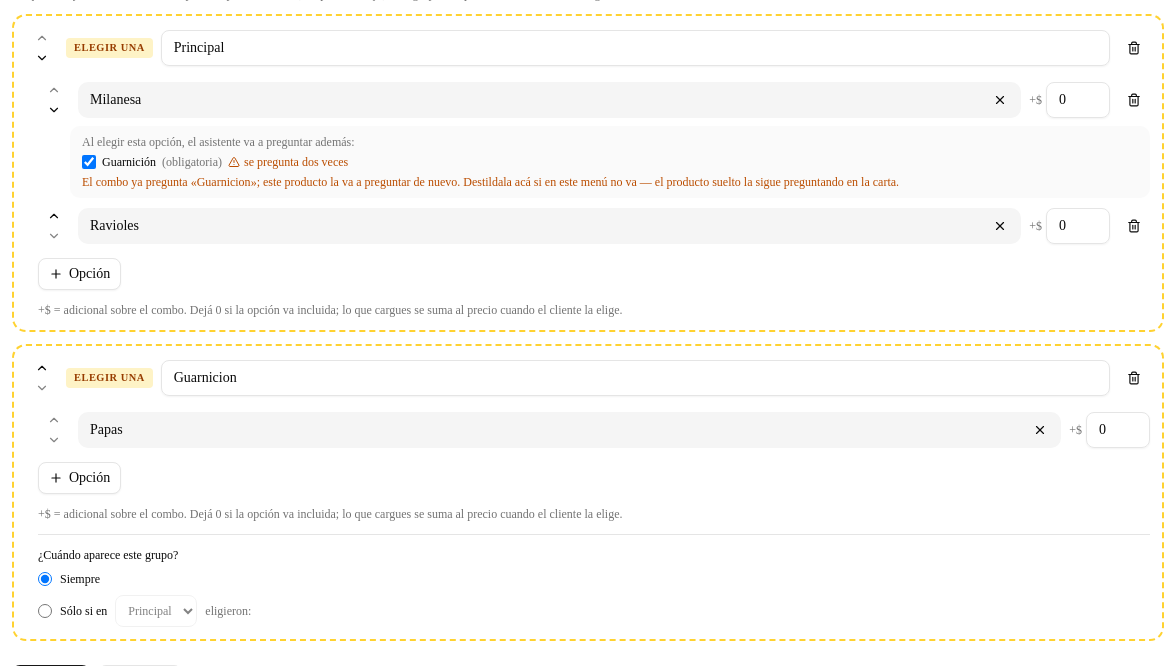
Scenario: editor del menú del día · los modificadores del producto (spec 148) › en el selector de disparadores, el producto que ya pregunta lo mismo queda marcado
(page scrolled)
Click the radio button labelled "Sólo si en": click(45, 611) [38,604,52,618]
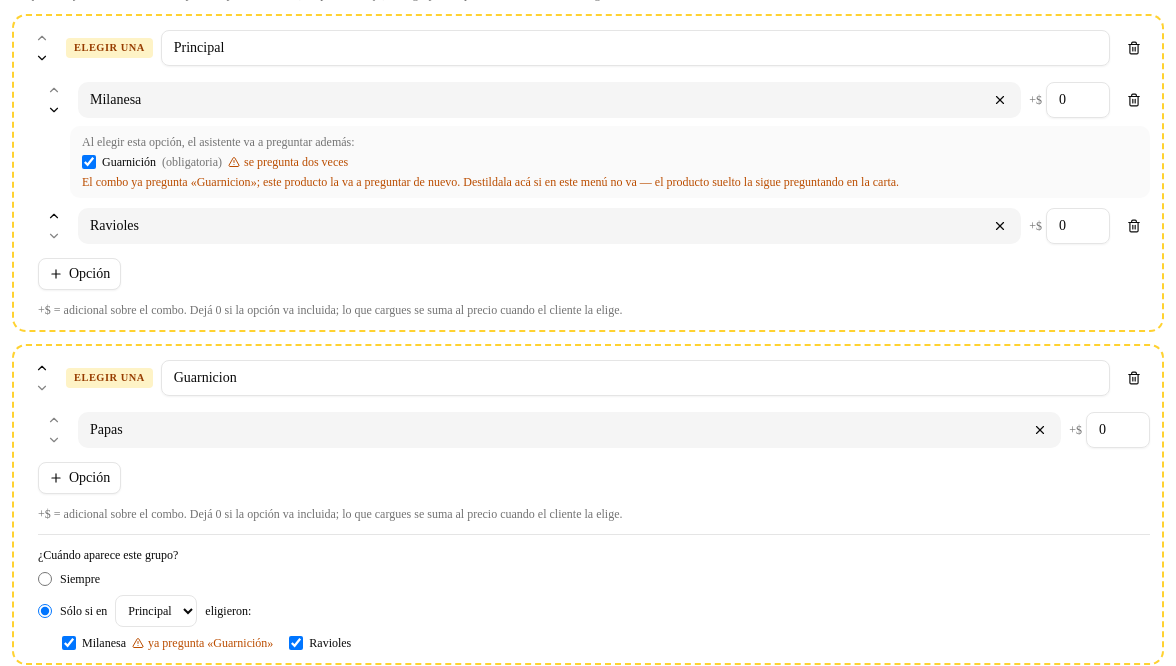
Expected: the checkbox labelled "Milanesa ya pregunta «Guarnición»" is shown, [62,636,76,650]
Expected: the checkbox labelled "Ravioles" is shown, [289,636,303,650]
